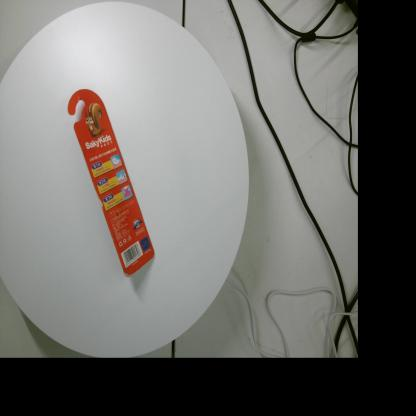Personal Hygiene: (67, 89, 155, 277)
